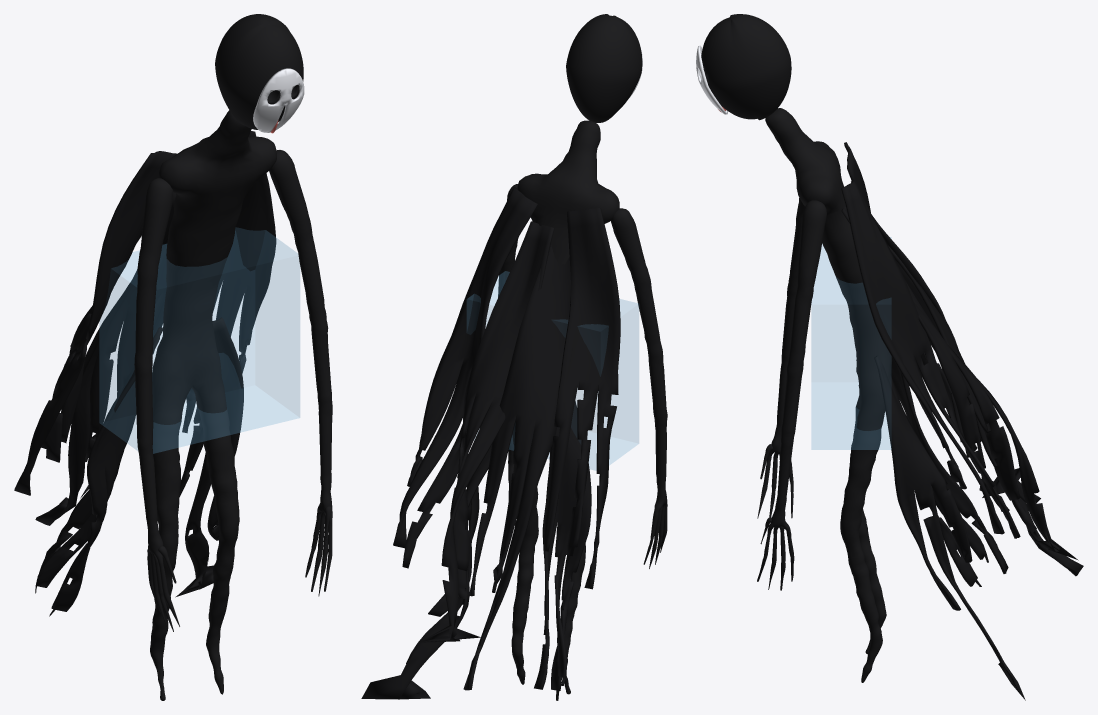
The model's file is Fisilti.fbx.
3 renders of one model, left to right at view 1: azimuth 30°, elevation 25°; view 2: azimuth 150°, elevation 25°; view 3: azimuth 270°, elevation 25°, orthographic. The views are drawn at different scales.
Parts seen in each view (by area): view 1: Root, Govde, Pelerin2, SagKol, SolKol, Pelerin6, Pelerin4, Pelerin1, Bas, Pelerin5, Yuz, Pelerin3; view 2: Pelerin2, Pelerin4, Pelerin3, Pelerin1, Govde, Bas, Pelerin6, Root, SagKol, Pelerin5, SolKol; view 3: Govde, Root, Pelerin1, Pelerin5, Bas, Pelerin3, SolKol, Pelerin6, Pelerin4, SagKol, Pelerin2.
Part boxes in pixels (x1,y1,x2,y2): Root: (99,228,299,453); Govde: (150,110,276,700); Pelerin2: (14,151,176,495); SagKol: (134,178,179,631); SolKol: (269,150,332,596); Pelerin6: (35,327,162,616); Pelerin4: (35,192,176,525); Pelerin1: (182,131,276,433); Bas: (215,14,303,129); Pelerin5: (175,317,243,597); Yuz: (253,68,304,132); Pelerin3: (80,249,166,498); Pelerin2: (543,208,620,589); Pelerin4: (463,243,570,690); Pelerin3: (419,221,554,642); Pelerin1: (393,187,537,568); Govde: (511,120,619,694); Bas: (566,14,642,122); Pelerin6: (534,401,591,700); Root: (467,271,638,470); SagKol: (611,208,667,568); Pelerin5: (361,416,491,699); SolKol: (498,184,518,525); Govde: (765,108,892,682); Root: (811,237,891,449); Pelerin1: (841,180,1020,538); Pelerin5: (874,355,1025,700); Bas: (701,14,791,120); Pelerin3: (841,206,1078,560); SolKol: (757,200,826,590); Pelerin6: (890,357,1008,586); Pelerin4: (888,245,1083,576); SagKol: (757,198,804,525); Pelerin2: (844,142,981,457).
Bounding box in the file's own units: 3.1 × 9 × 4.84.
